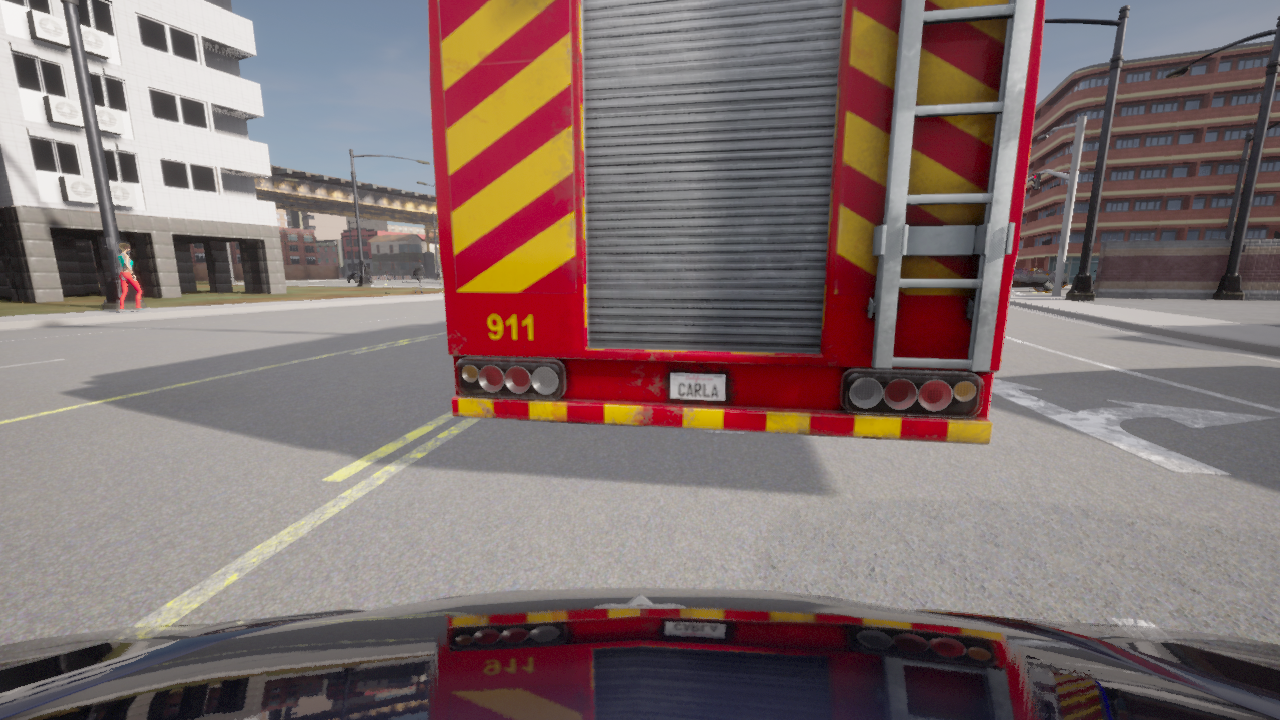cyclist: (427, 0, 1045, 444), (0, 588, 1279, 719), (1011, 269, 1067, 292), (346, 267, 372, 283), (382, 272, 395, 278), (371, 273, 380, 278)
pedestrian: (117, 242, 148, 313), (412, 259, 426, 294), (437, 271, 443, 295), (1090, 269, 1096, 290)
